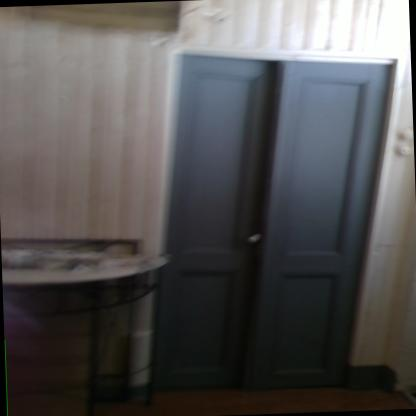closed: (157, 31, 413, 400)
